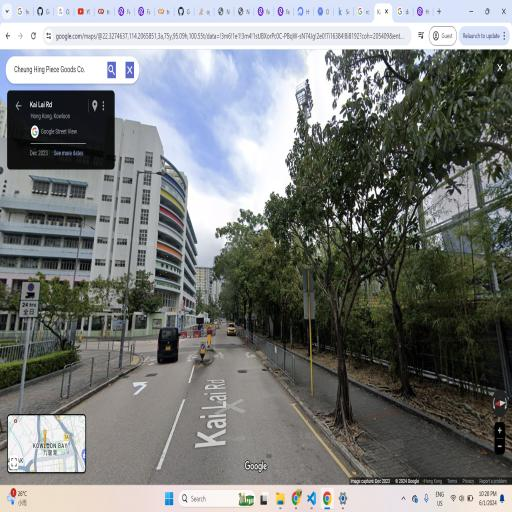Roads: (7, 298, 489, 473)
Trees: (262, 98, 430, 441), (212, 186, 298, 346)
